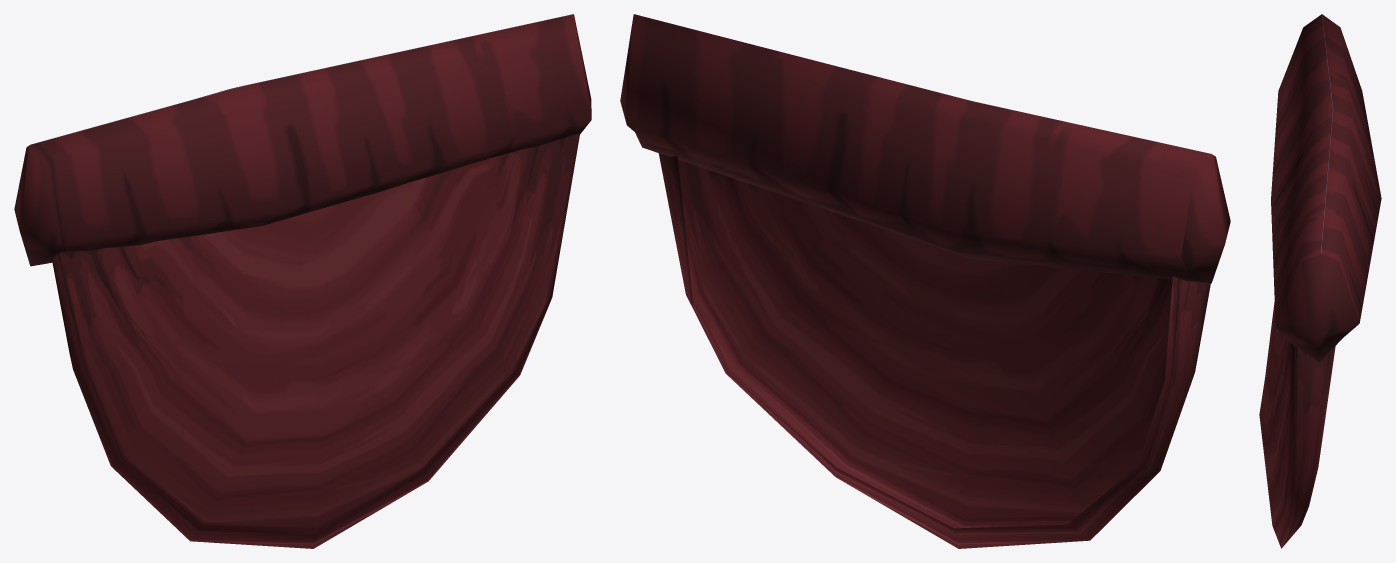
Rendered from SM_PROP_curtain_interior_04.fbx.
3 renders of one model, left to right at view 1: azimuth 30°, elevation 25°; view 2: azimuth 150°, elevation 25°; view 3: azimuth 270°, elevation 25°, orthographic. The views are drawn at different scales.
Parts seen in each view (by area): view 1: SM_PROP_curtain_interior_04; view 2: SM_PROP_curtain_interior_04; view 3: SM_PROP_curtain_interior_04.
Part boxes in pixels (bbox=[...]): SM_PROP_curtain_interior_04: bbox=[14, 14, 591, 548]; SM_PROP_curtain_interior_04: bbox=[620, 14, 1230, 548]; SM_PROP_curtain_interior_04: bbox=[1259, 14, 1381, 548].
Bounding box in the file's own units: 85.42 × 64.74 × 17.65.
